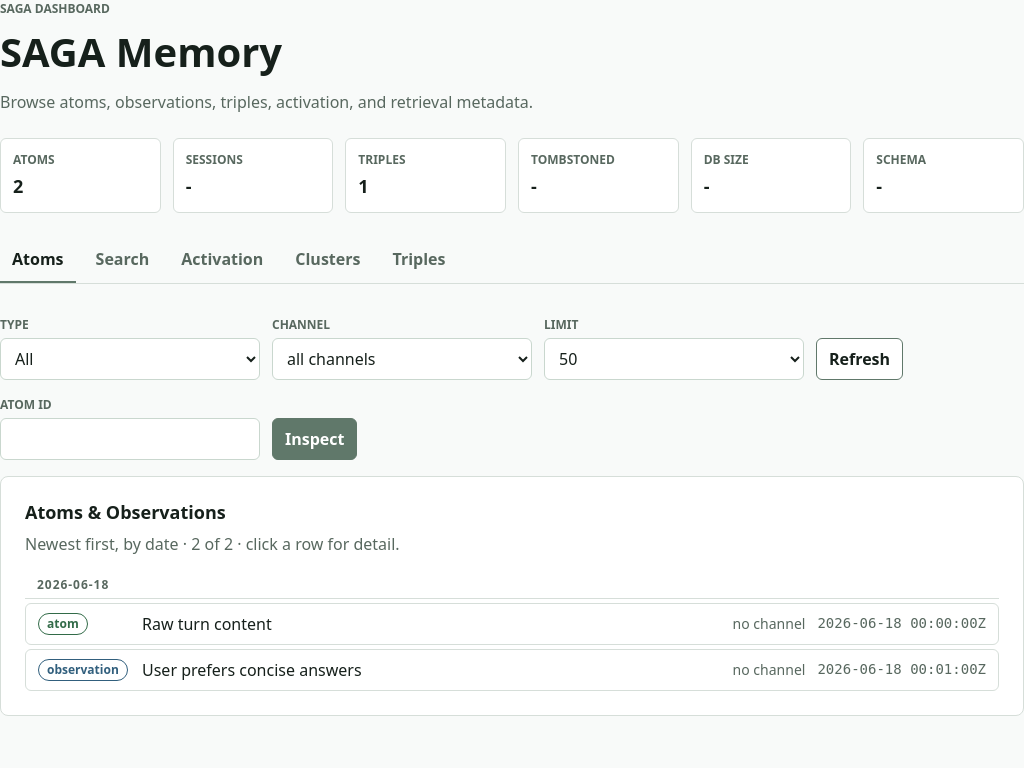
Test: SAGA dashboard rendering › filters by type and surfaces triples with click-to-detail (#574)
This screenshot has width=1024, height=768.
Expected: the text "Raw turn content" is shown, x1=142 y1=612 x2=272 y2=634
Expected: the text "User prefers concise answers" is shown, x1=142 y1=658 x2=362 y2=680
Select "Observations" in the dropdown labelled "Type". click: (130, 359)
box: x1=0 y1=338 x2=260 y2=380
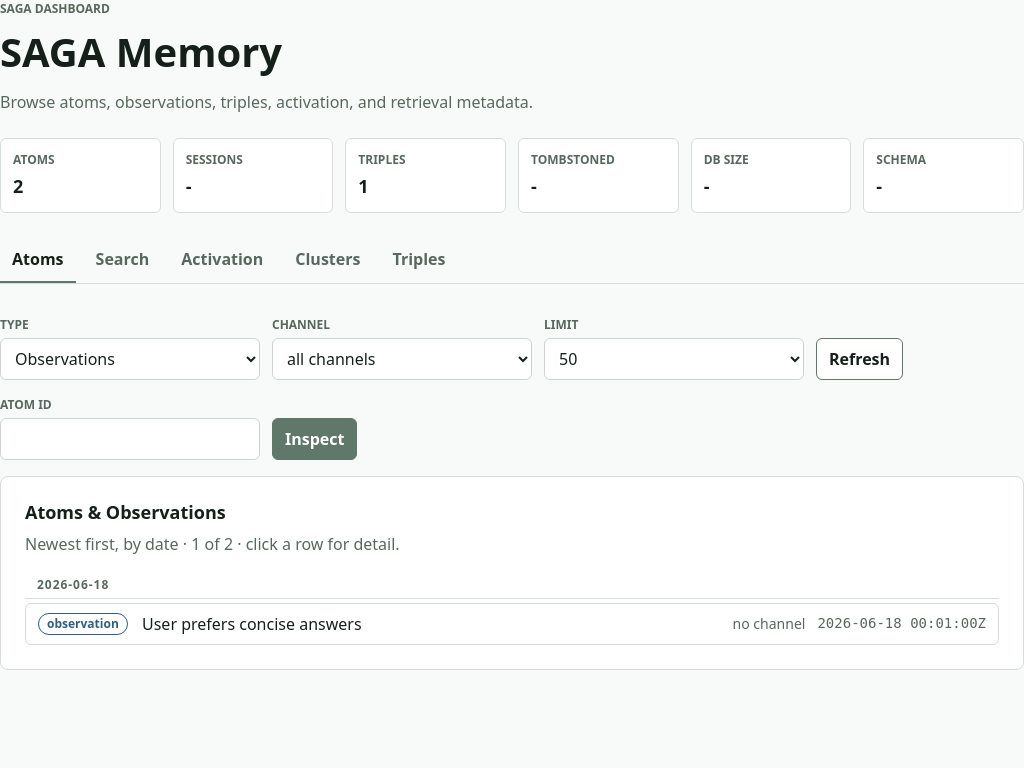
Expected: the text "User prefers concise answers" is shown, x1=142 y1=612 x2=362 y2=634
Now the button "Raw turn content" is gone
Select "Triples" in the dropdown labelled "Type". click: (130, 359)
box: x1=0 y1=338 x2=260 y2=380
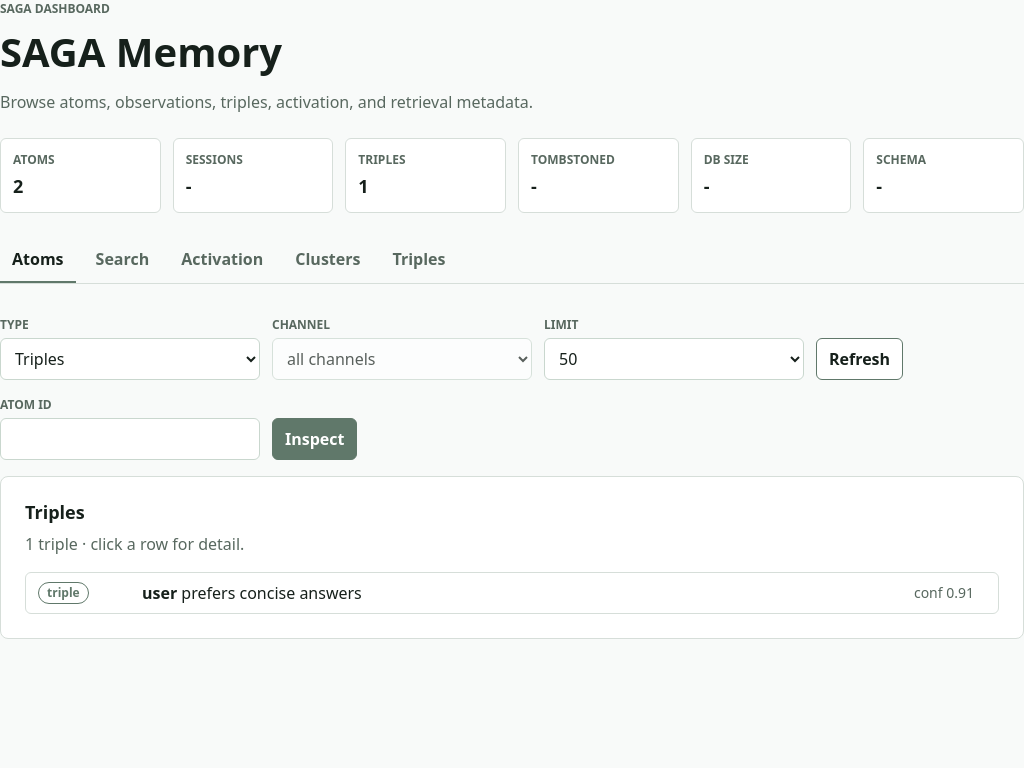
Click the button "triple user prefers concise answers conf 0.91". click: (63, 592)
box: x1=25 y1=572 x2=999 y2=614
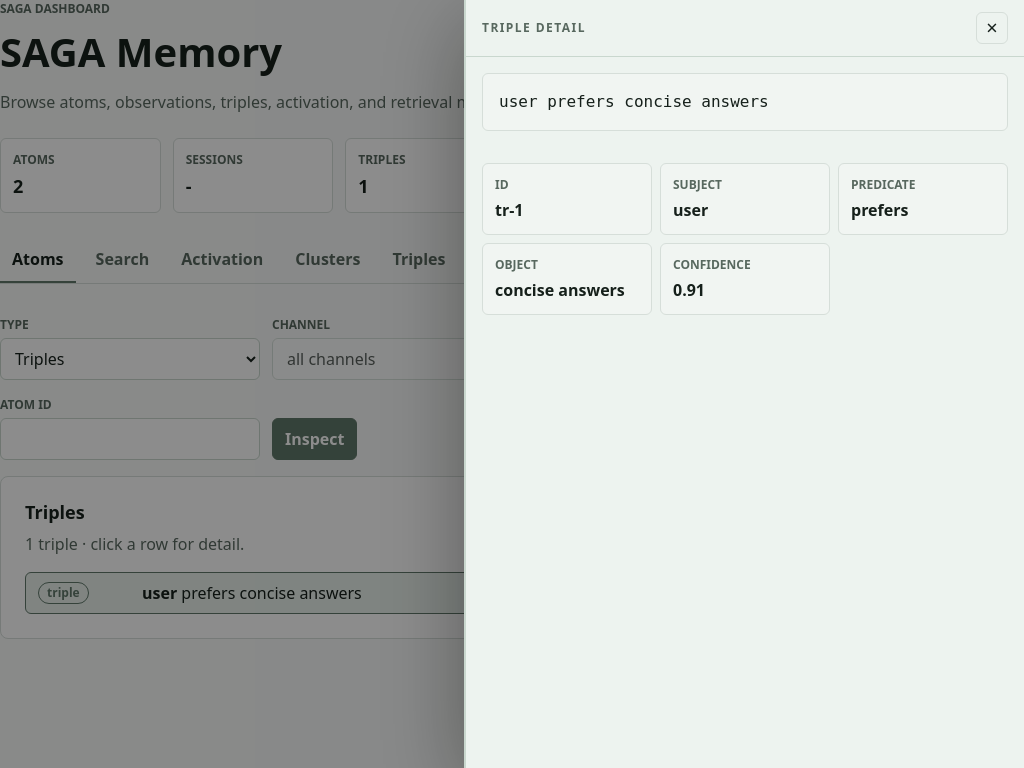
Now the text "Triple Detail" is shown, box x1=482 y1=19 x2=586 y2=37
Now the text "concise answers" is shown, box x1=495 y1=278 x2=639 y2=302
